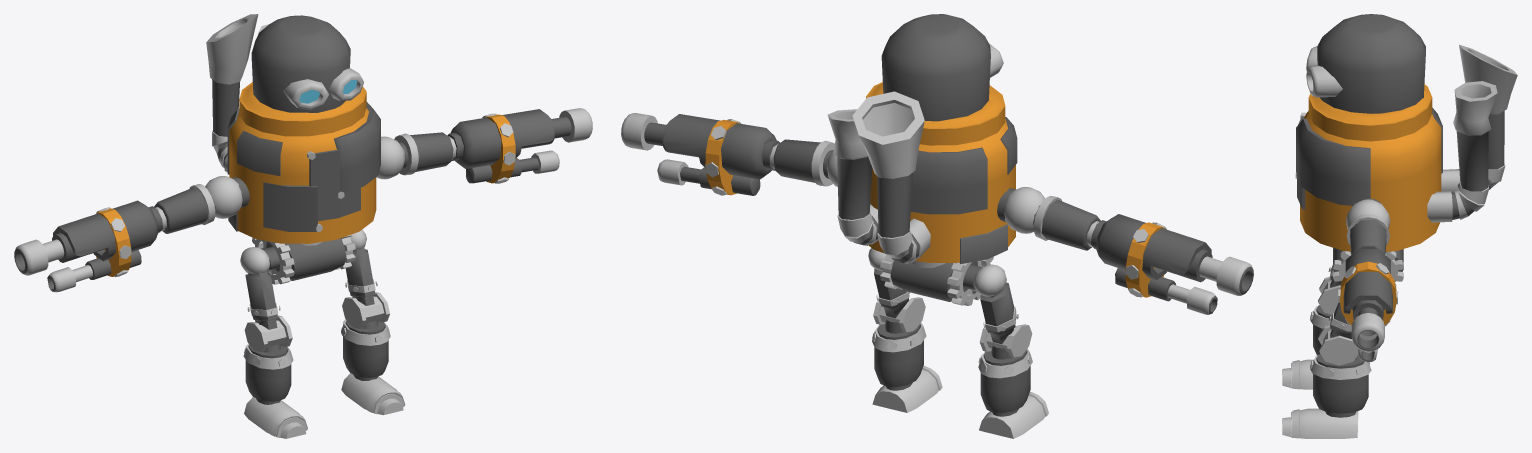
The model's file is OP_Enemy.fbx.
The picture shows the model from 3 angles, left to right: view 1: azimuth 30°, elevation 25°; view 2: azimuth 150°, elevation 25°; view 3: azimuth 270°, elevation 25°; orthographic projection. The views are drawn at different scales.
Parts seen in each view (by area): view 1: Op_Enemy; view 2: Op_Enemy; view 3: Op_Enemy.
Part boxes in pixels (bbox=[...]): Op_Enemy: bbox=[14, 14, 592, 438]; Op_Enemy: bbox=[621, 14, 1253, 438]; Op_Enemy: bbox=[1282, 14, 1517, 438].
Size of the model in its own units: 620 by 385 by 215.
